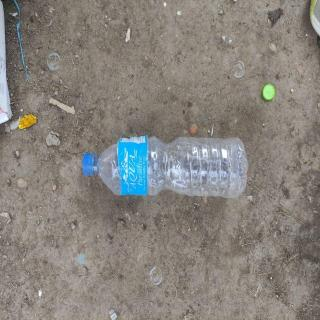Plastic-bottle: (81, 134, 251, 201)
